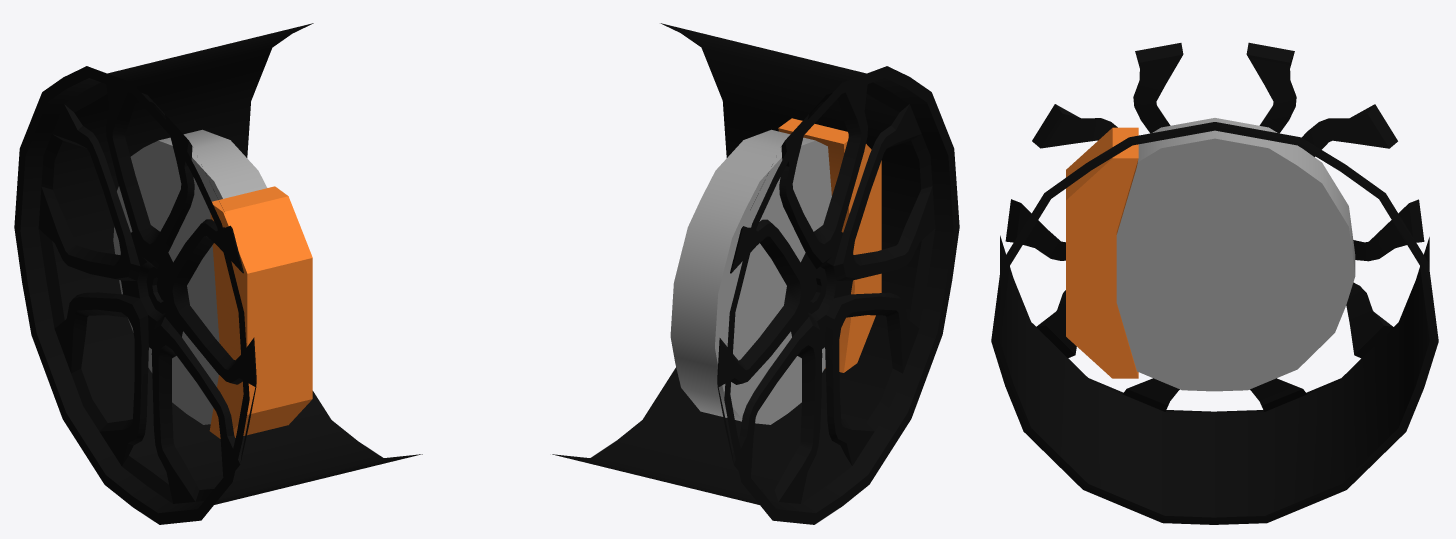
File: wheel.glb
The picture shows the model from 3 angles, left to right: view 1: azimuth 30°, elevation 25°; view 2: azimuth 150°, elevation 25°; view 3: azimuth 270°, elevation 25°; orthographic projection. The views are drawn at different scales.
Parts seen in each view (by area): view 1: Plane.035_Material_0, Plane.036_Material.009_0, Plane.036_Material.003_0; view 2: Plane.035_Material_0, Plane.036_Material.003_0, Plane.036_Material.009_0; view 3: Plane.035_Material_0, Plane.036_Material.003_0, Plane.036_Material.009_0.
Boxes of the visible parts, x1,y1,x2,y2 form: Plane.035_Material_0: (14,23,422,524); Plane.036_Material.009_0: (209,186,312,438); Plane.036_Material.003_0: (113,129,267,424); Plane.035_Material_0: (552,23,959,524); Plane.036_Material.003_0: (670,129,831,424); Plane.036_Material.009_0: (778,118,881,372); Plane.035_Material_0: (991,42,1438,524); Plane.036_Material.003_0: (1116,118,1355,391); Plane.036_Material.009_0: (1066,127,1138,378).
Bounding box in the file's own units: 0.3974 × 0.7134 × 0.7179.
